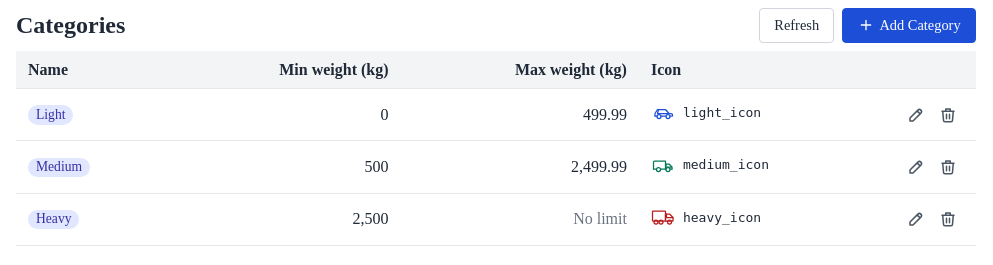
Scenario: CategoryListComponent › confirms, deletes just that category, then shows the gap it left
Click the button named "Delete category Medium": (948, 167) [932,151,964,183]
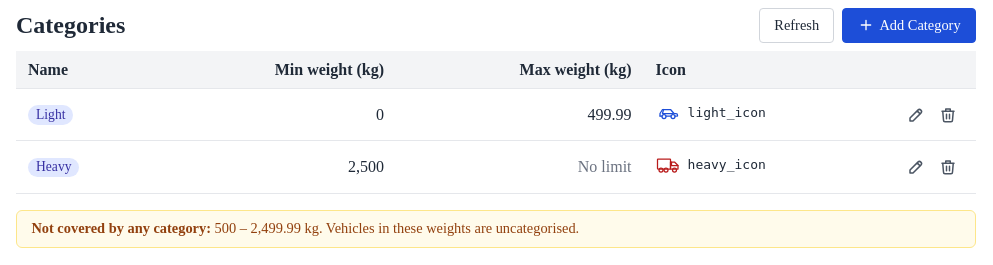
Now the message with class "gaps" shows "500 – 2,499.99 kg", box [211,220,579,236]
